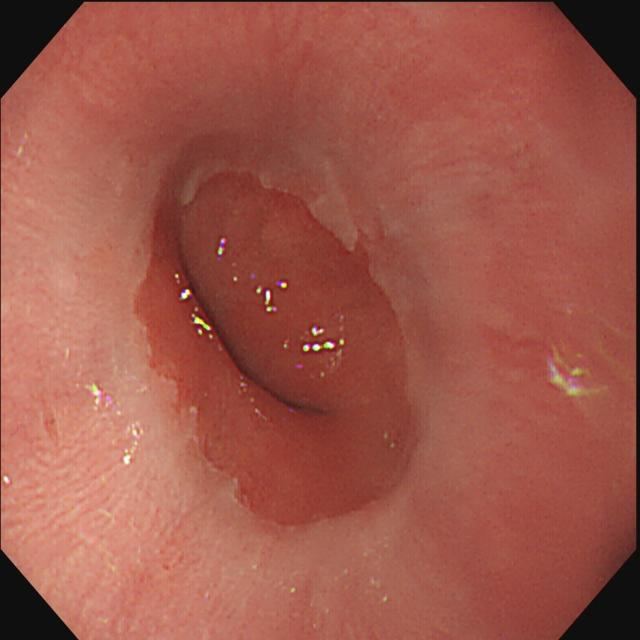I: (121, 153, 429, 533)
U: (547, 349, 610, 400), (181, 289, 211, 337), (303, 328, 347, 357), (259, 285, 282, 315)
